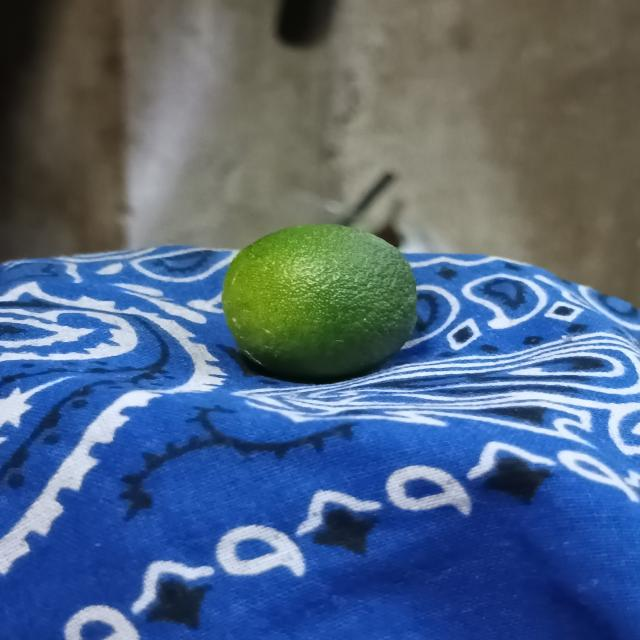heathy: (213, 221, 423, 381)
